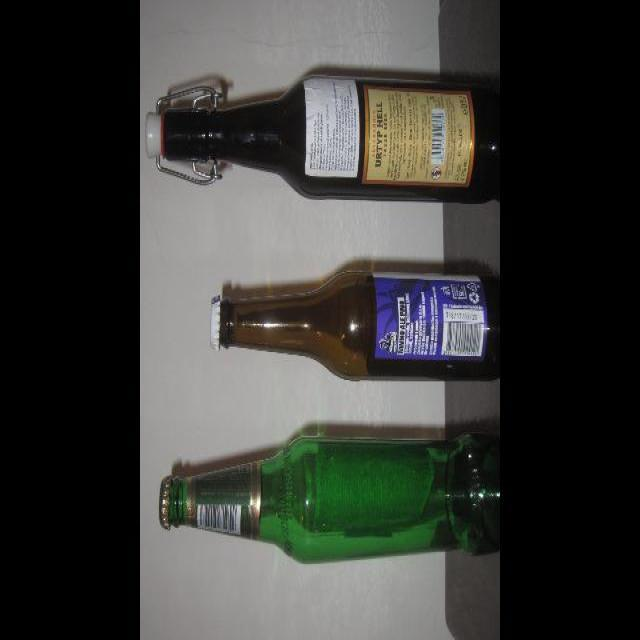Glass: (142, 66, 500, 209), (158, 430, 500, 568), (208, 263, 500, 382)
